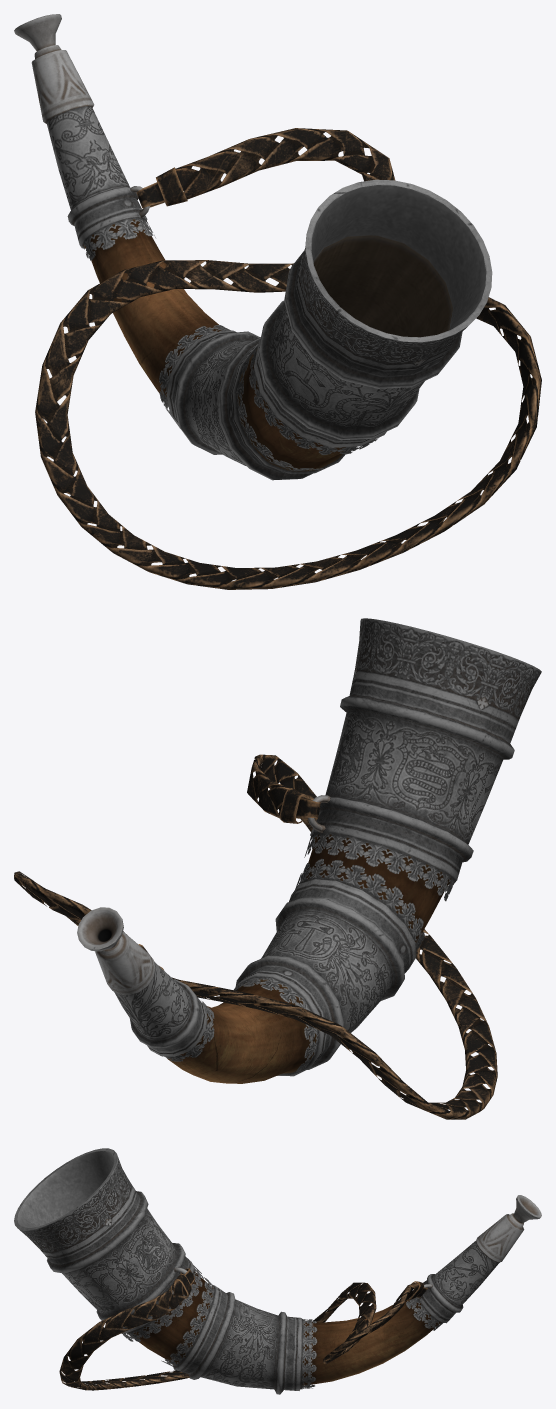
Rendered from Msh_WarHorn.glb.
3 views of the same model, one above another, from view 1: azimuth 30°, elevation 25°; view 2: azimuth 150°, elevation 25°; view 3: azimuth 270°, elevation 25° (orthographic). The views are drawn at different scales.
Visible parts, largest first — view 1: Object_2; view 2: Object_2; view 3: Object_2.
Boxes of the visible parts, x1,y1,x2,y2 form: Object_2: (14,14,541,589); Object_2: (14,618,541,1119); Object_2: (14,1148,541,1394).
Bounding box in the file's own units: 21.88 × 21.56 × 39.89.
1 material, 1 textured.
